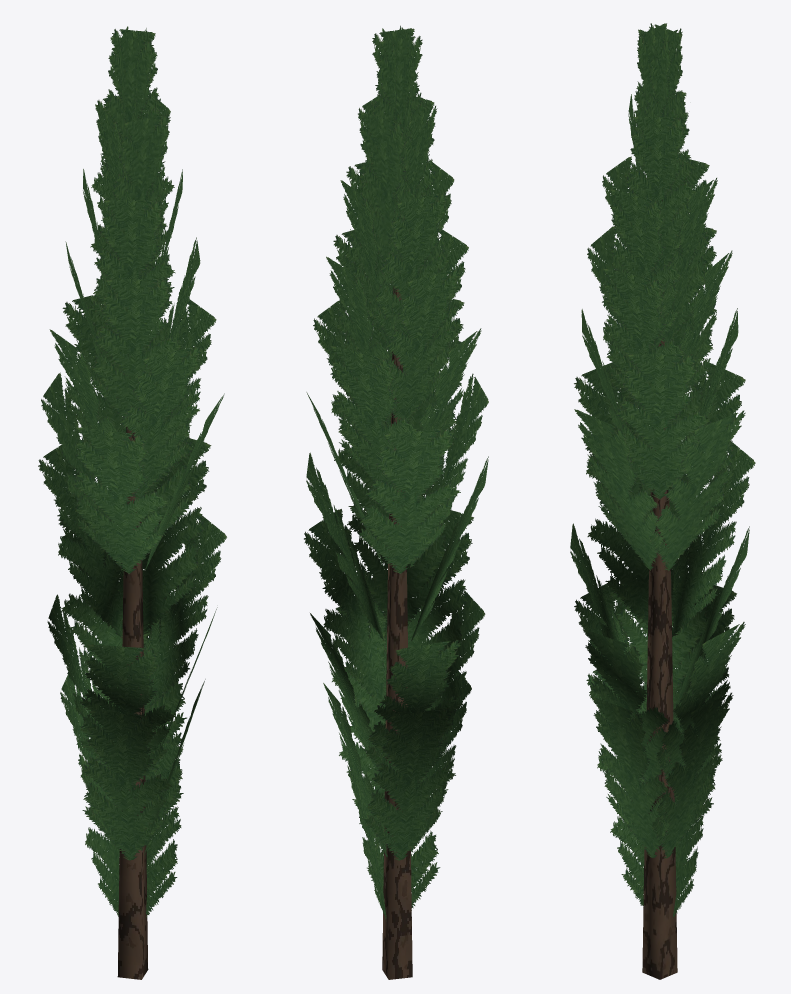
Rendered from cypress1_lod1.fbx.
The picture shows the model from 3 angles, left to right: view 1: azimuth 30°, elevation 25°; view 2: azimuth 150°, elevation 25°; view 3: azimuth 270°, elevation 25°; orthographic projection.
Parts seen in each view (by area): view 1: cypress1_lod1; view 2: cypress1_lod1; view 3: cypress1_lod1.
Part boxes in pixels (x1,y1,x2,y2): cypress1_lod1: (38, 26, 226, 979); cypress1_lod1: (304, 25, 488, 979); cypress1_lod1: (570, 23, 755, 979).
Size of the model in its own units: 2.92 by 13 by 2.92.
Materials: 2 (2 with a texture image).
